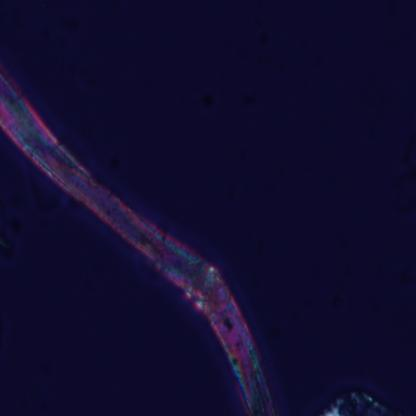Microfibre: (0, 63, 277, 416)
